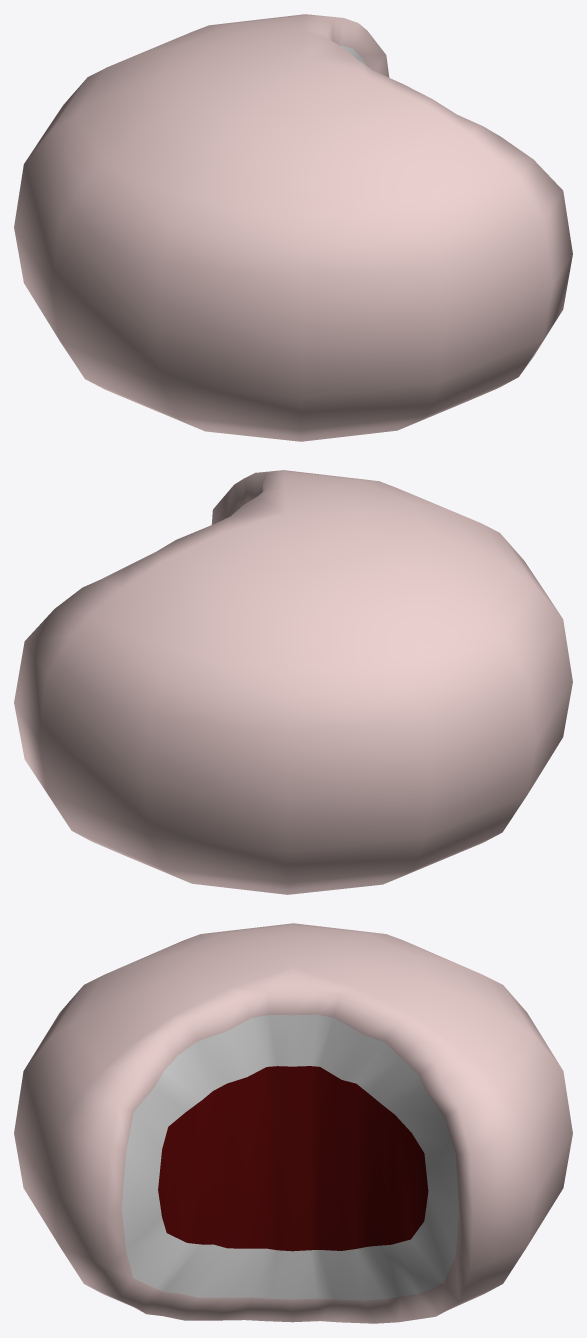
File: Donut.fbx
The picture shows the model from 3 angles, top to bottom: view 1: azimuth 30°, elevation 25°; view 2: azimuth 150°, elevation 25°; view 3: azimuth 270°, elevation 25°; orthographic projection.
Visible parts, largest first — view 1: sm_bitten_mochi; view 2: sm_bitten_mochi; view 3: sm_bitten_mochi.
Part boxes in pixels (box(x1,y1,x2,y2)): sm_bitten_mochi: box(14, 14, 572, 441); sm_bitten_mochi: box(14, 470, 572, 894); sm_bitten_mochi: box(14, 923, 572, 1323).
Size of the model in its own units: 23.76 by 17.93 by 26.91.
